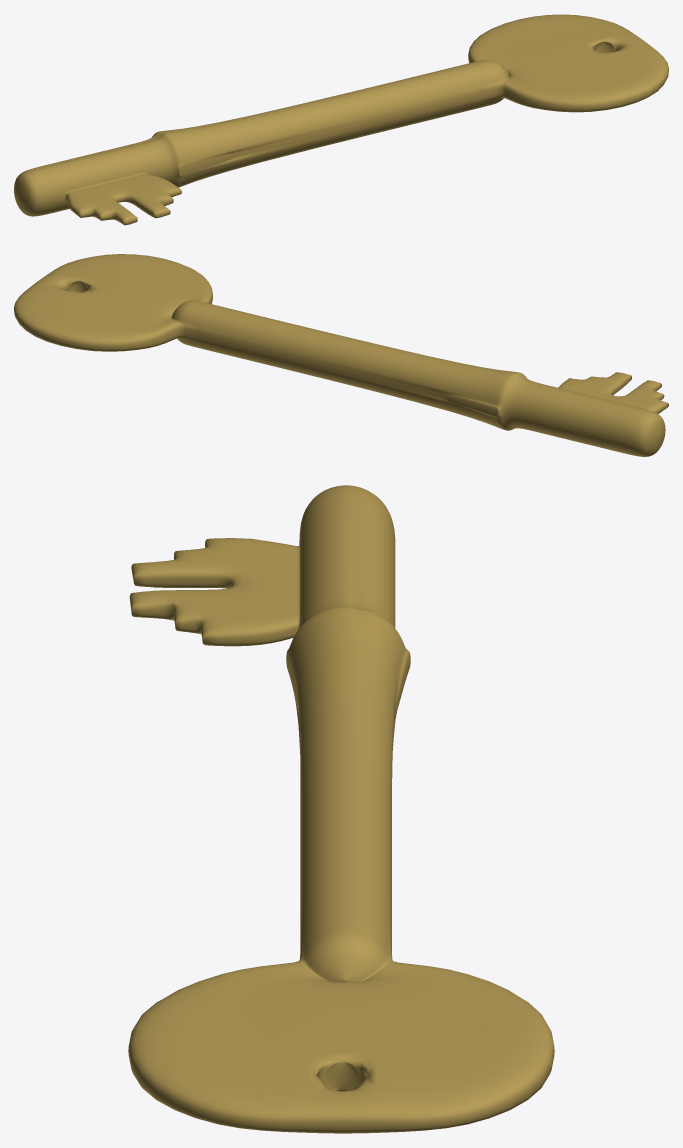
The model's file is Key.fbx.
3 renders of one model, top to bottom at view 1: azimuth 30°, elevation 25°; view 2: azimuth 150°, elevation 25°; view 3: azimuth 270°, elevation 25°, orthographic. The views are drawn at different scales.
Parts seen in each view (by area): view 1: Цилиндр; view 2: Цилиндр; view 3: Цилиндр.
Boxes of the visible parts, left/top/right/bottom form: Цилиндр: left=14, top=14, right=668, bottom=225; Цилиндр: left=14, top=254, right=668, bottom=456; Цилиндр: left=128, top=485, right=554, bottom=1133.
Bounding box in the file's own units: 823 × 67.88 × 244.
